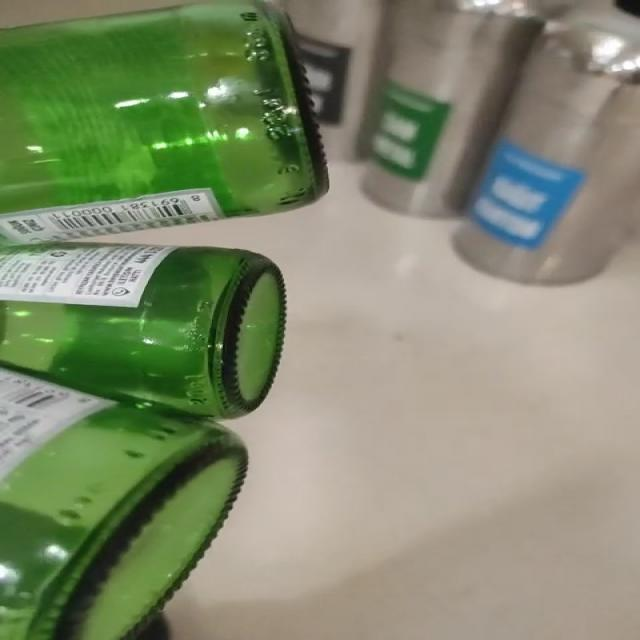glass: (0, 0, 327, 640)
